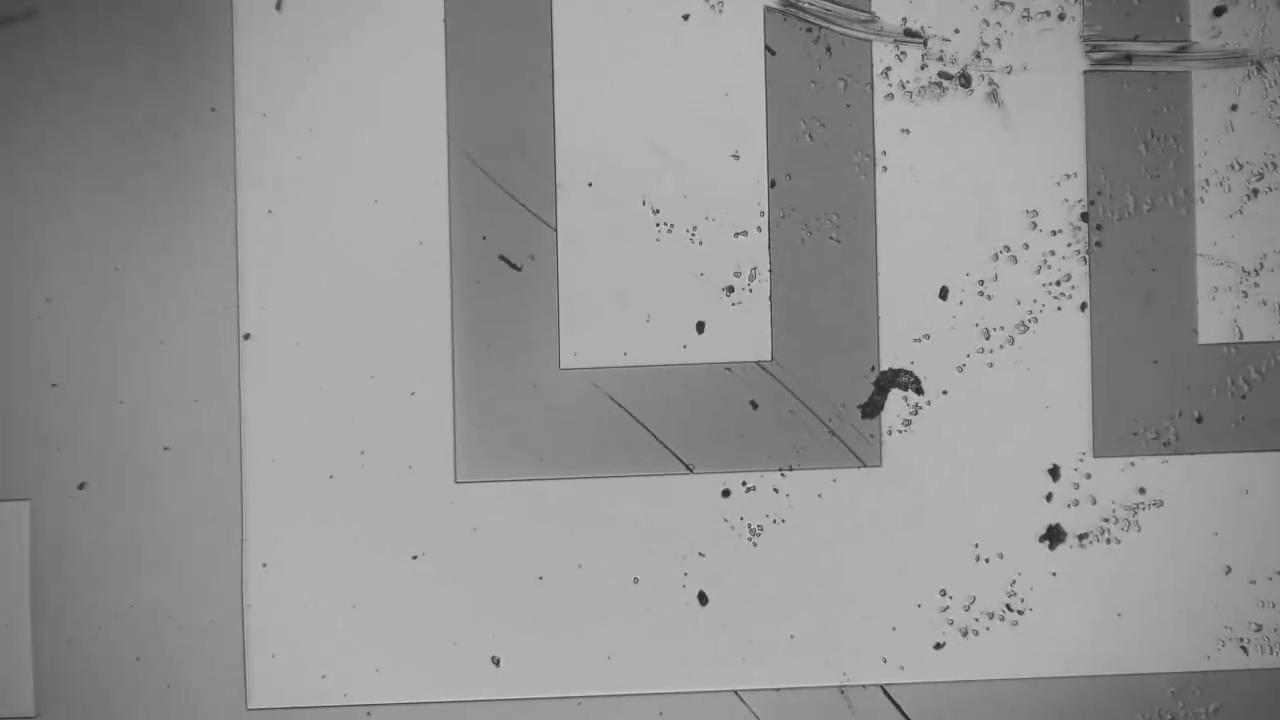Short_circuit: (1052, 22, 1226, 94), (743, 1, 906, 55)
scratch: (762, 369, 855, 458), (599, 392, 699, 471), (467, 148, 550, 238)
